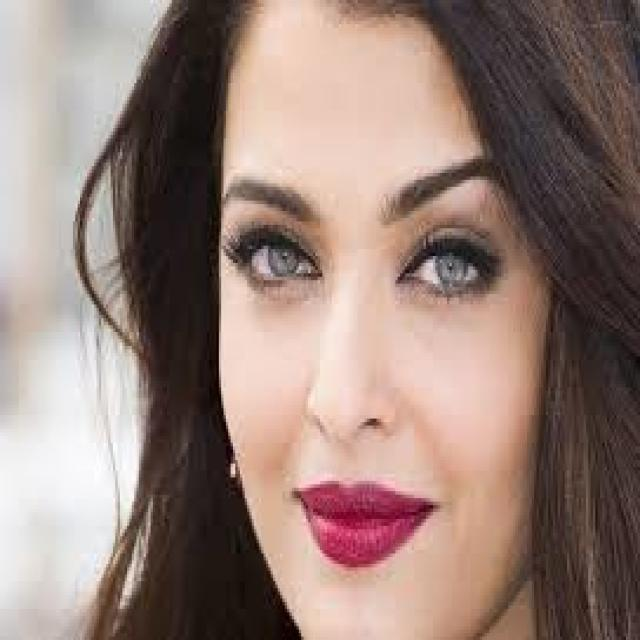low: (239, 274, 314, 303)
no_dark_circle: (401, 288, 509, 324)
